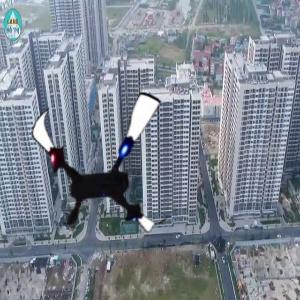drone: (22, 77, 193, 248)
